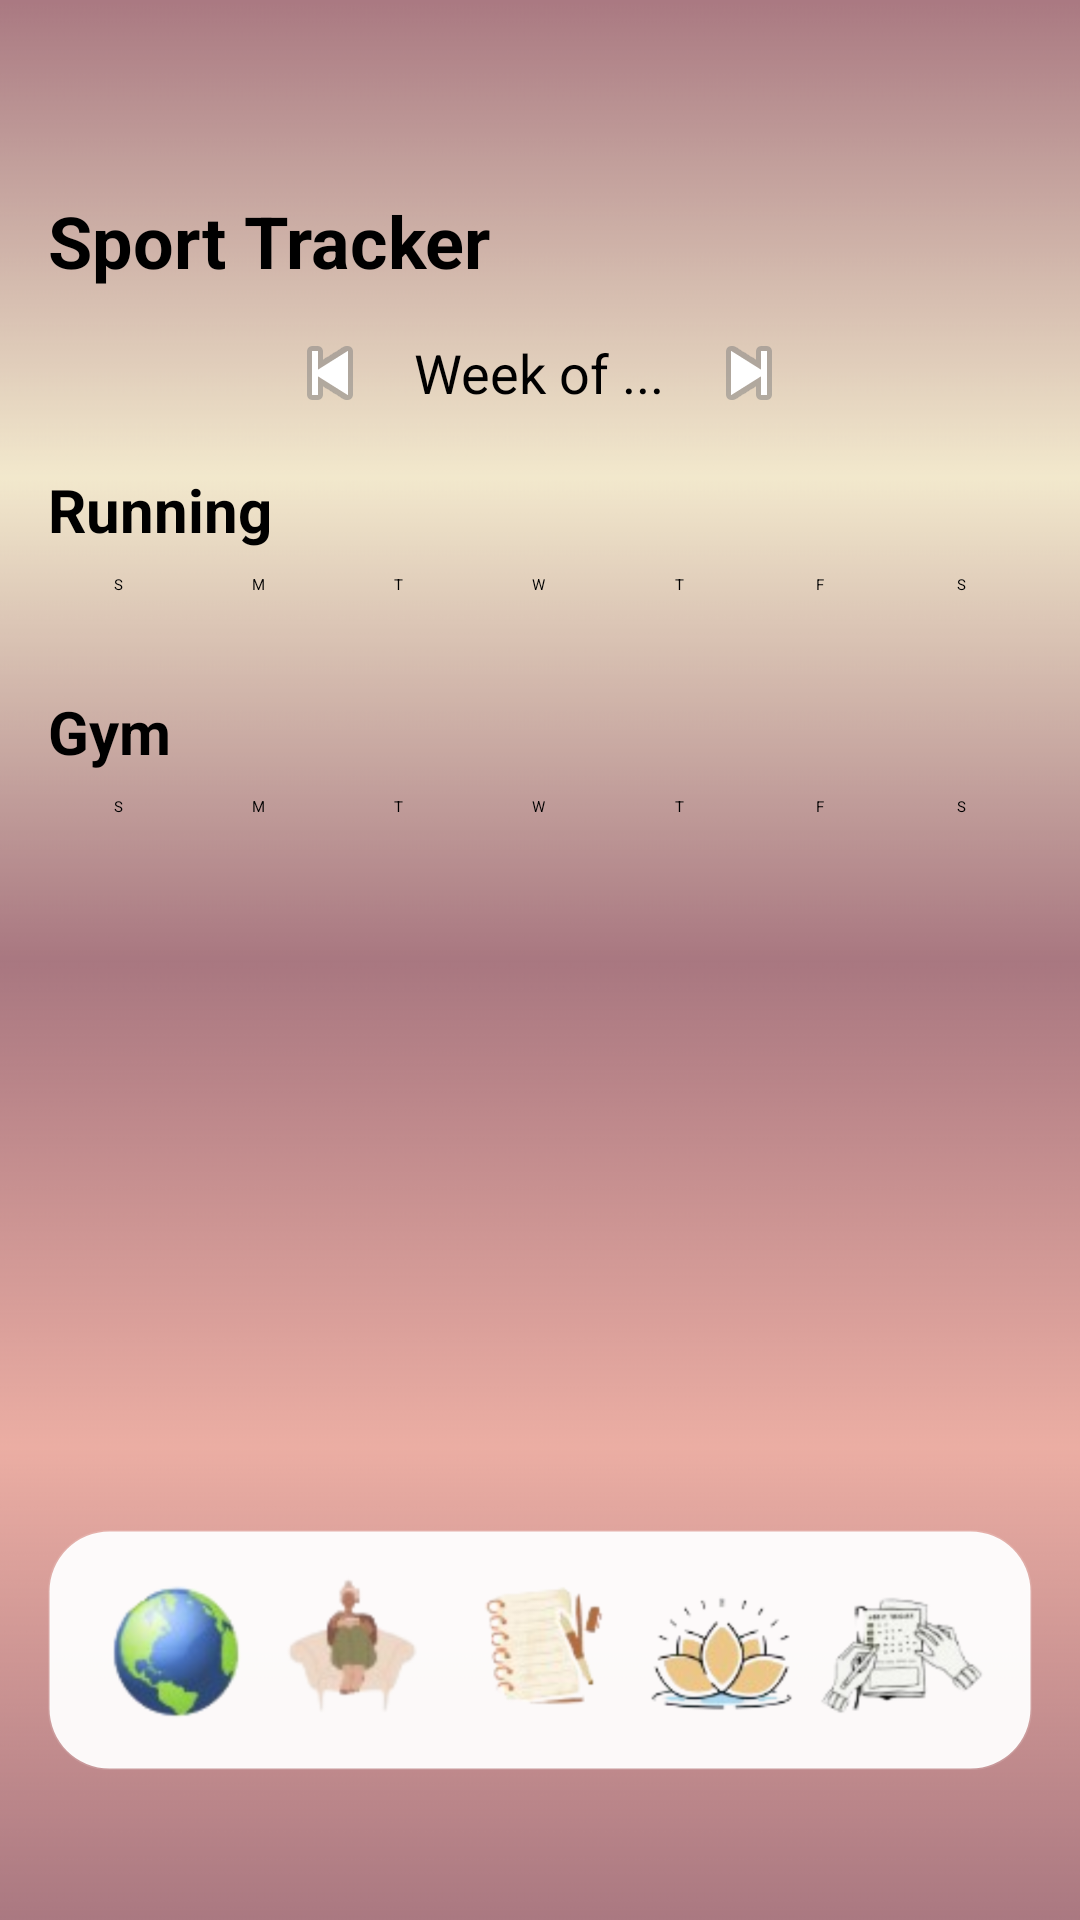

Icon bounding boxes for this 1080w x 1920h phone screenshot, format (left=x1, top=y1, right=x2, bottom=y2):
divertissement: (left=290, top=1580, right=415, bottom=1708)
habits: (left=822, top=1598, right=982, bottom=1713)
journal: (left=486, top=1589, right=602, bottom=1704)
next: (left=726, top=346, right=772, bottom=400)
previous: (left=307, top=346, right=353, bottom=400)
travels: (left=113, top=1587, right=239, bottom=1716)
